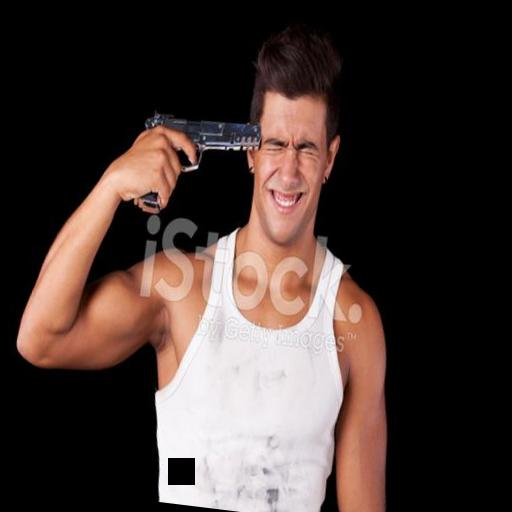Handgun: (128, 99, 265, 222)
